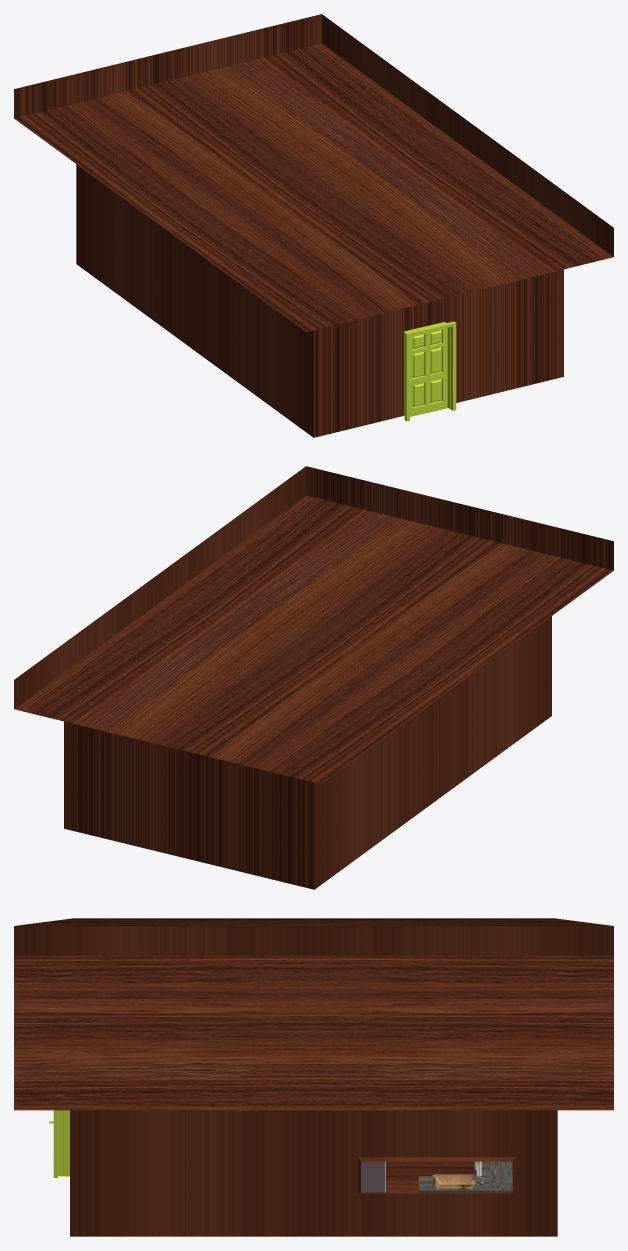
Rendered from doan11.glb.
3 views of the same model, one above another, from view 1: azimuth 30°, elevation 25°; view 2: azimuth 150°, elevation 25°; view 3: azimuth 270°, elevation 25° (orthographic). The views are drawn at different scales.
Parts seen in each view (by area): view 1: House, basic_door; view 2: House; view 3: House, Cube, basic_door, tu lanh, Plane.
Boxes of the visible parts, bbox=[...] form: House: bbox=[14, 14, 613, 437]; basic_door: bbox=[403, 321, 456, 421]; House: bbox=[14, 466, 613, 889]; House: bbox=[14, 918, 613, 1236]; Cube: bbox=[419, 1161, 512, 1192]; basic_door: bbox=[49, 1110, 69, 1177]; tu lanh: bbox=[361, 1161, 385, 1192]; Plane: bbox=[432, 1174, 476, 1189].
Size of the model in its own units: 22.4 by 12.9 by 36.81.
31 materials, 8 textured.
